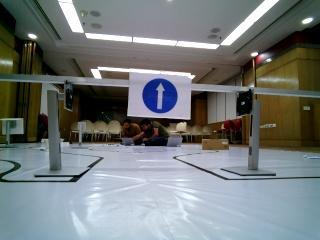straight: (132, 71, 194, 121)
